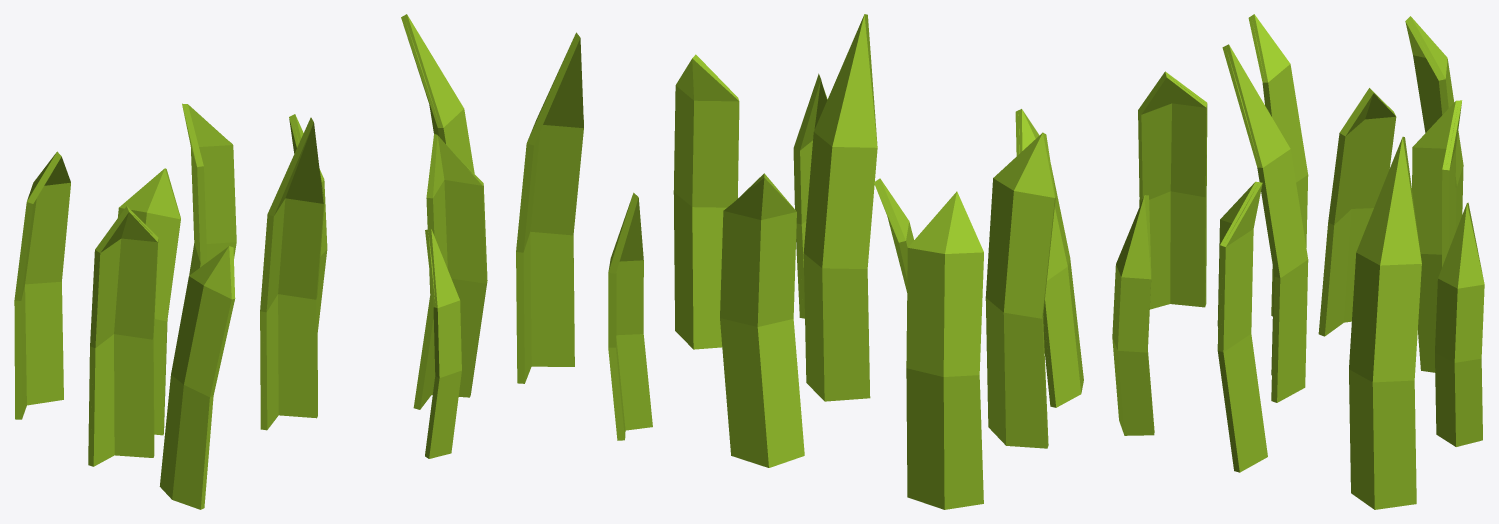
The model's file is GrassPatchSmall.fbx.
3 renders of one model, left to right at view 1: azimuth 30°, elevation 25°; view 2: azimuth 150°, elevation 25°; view 3: azimuth 270°, elevation 25°, orthographic. The views are drawn at different scales.
Parts seen in each view (by area): view 1: GrassPatchSmall; view 2: GrassPatchSmall; view 3: GrassPatchSmall.
Boxes of the visible parts, <box> form: GrassPatchSmall: <box>14,14,487,509</box>; GrassPatchSmall: <box>516,14,1083,509</box>; GrassPatchSmall: <box>1112,14,1484,509</box>.
Bounding box in the file's own units: 0.5869 × 0.4144 × 0.4047.
